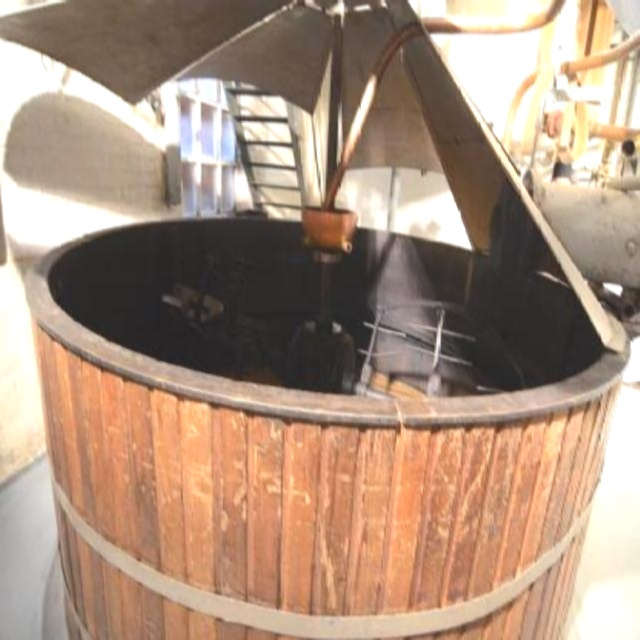stair: (226, 85, 303, 206)
